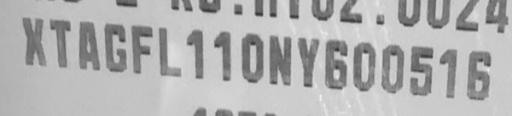letter: (347, 36, 381, 97), (463, 45, 499, 102), (156, 23, 188, 83), (406, 39, 436, 100), (434, 44, 466, 101), (19, 11, 49, 71), (74, 15, 104, 75), (236, 28, 266, 88), (100, 18, 130, 76), (322, 37, 352, 95), (208, 27, 238, 84), (378, 42, 408, 99), (266, 34, 294, 92), (296, 34, 326, 88), (128, 22, 158, 75), (184, 24, 210, 84), (48, 15, 74, 73)
